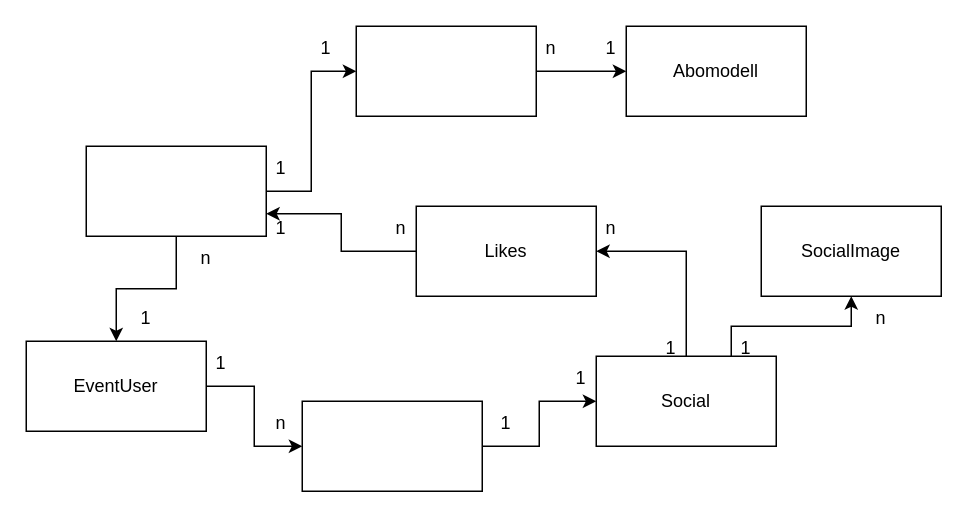
The diagram is 968 pixels wide and 518 high, and some of its shapes have lost their labels. Here are the shapes that lost their labels. From the top down, the centre of each, then its label:
the point at 445,70: Veranstalter
the point at 175,190: User
the point at 391,445: Event
